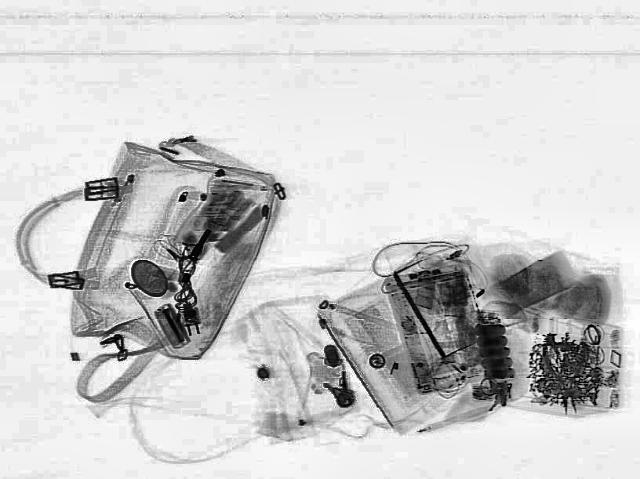Pliers: (538, 341, 596, 415)
